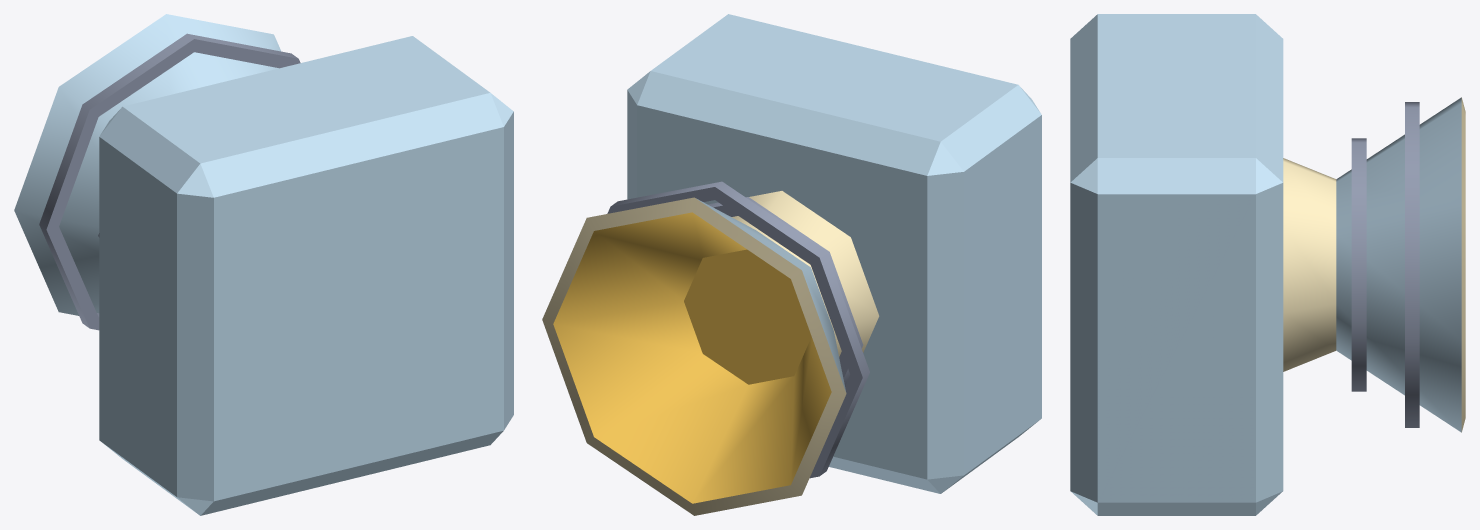
The model's file is R4X_Booster_LOD1.glb.
3 views of the same model, side by side, from view 1: azimuth 30°, elevation 25°; view 2: azimuth 150°, elevation 25°; view 3: azimuth 270°, elevation 25° (orthographic).
Parts seen in each view (by area): view 1: R4X_Booster_LOD1; view 2: R4X_Booster_LOD1; view 3: R4X_Booster_LOD1.
Part boxes in pixels (x1=…): R4X_Booster_LOD1: x1=14, y1=14, x2=513, y2=515; R4X_Booster_LOD1: x1=542, y1=14, x2=1041, y2=515; R4X_Booster_LOD1: x1=1070, y1=14, x2=1465, y2=515.
Bounding box in the file's own units: 0.52 × 0.52 × 0.52.
